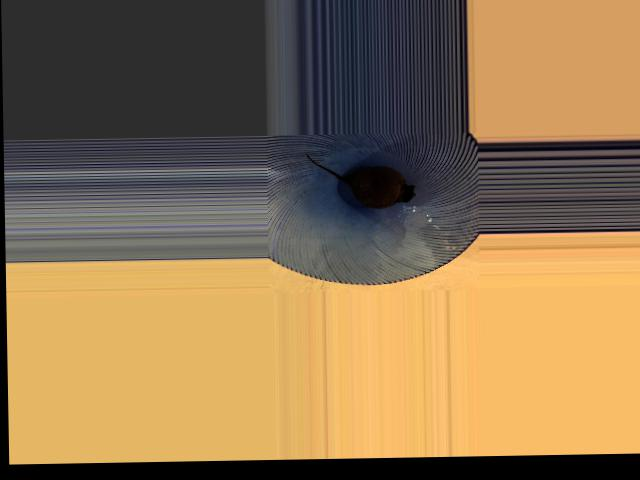beet: (306, 151, 415, 208)
